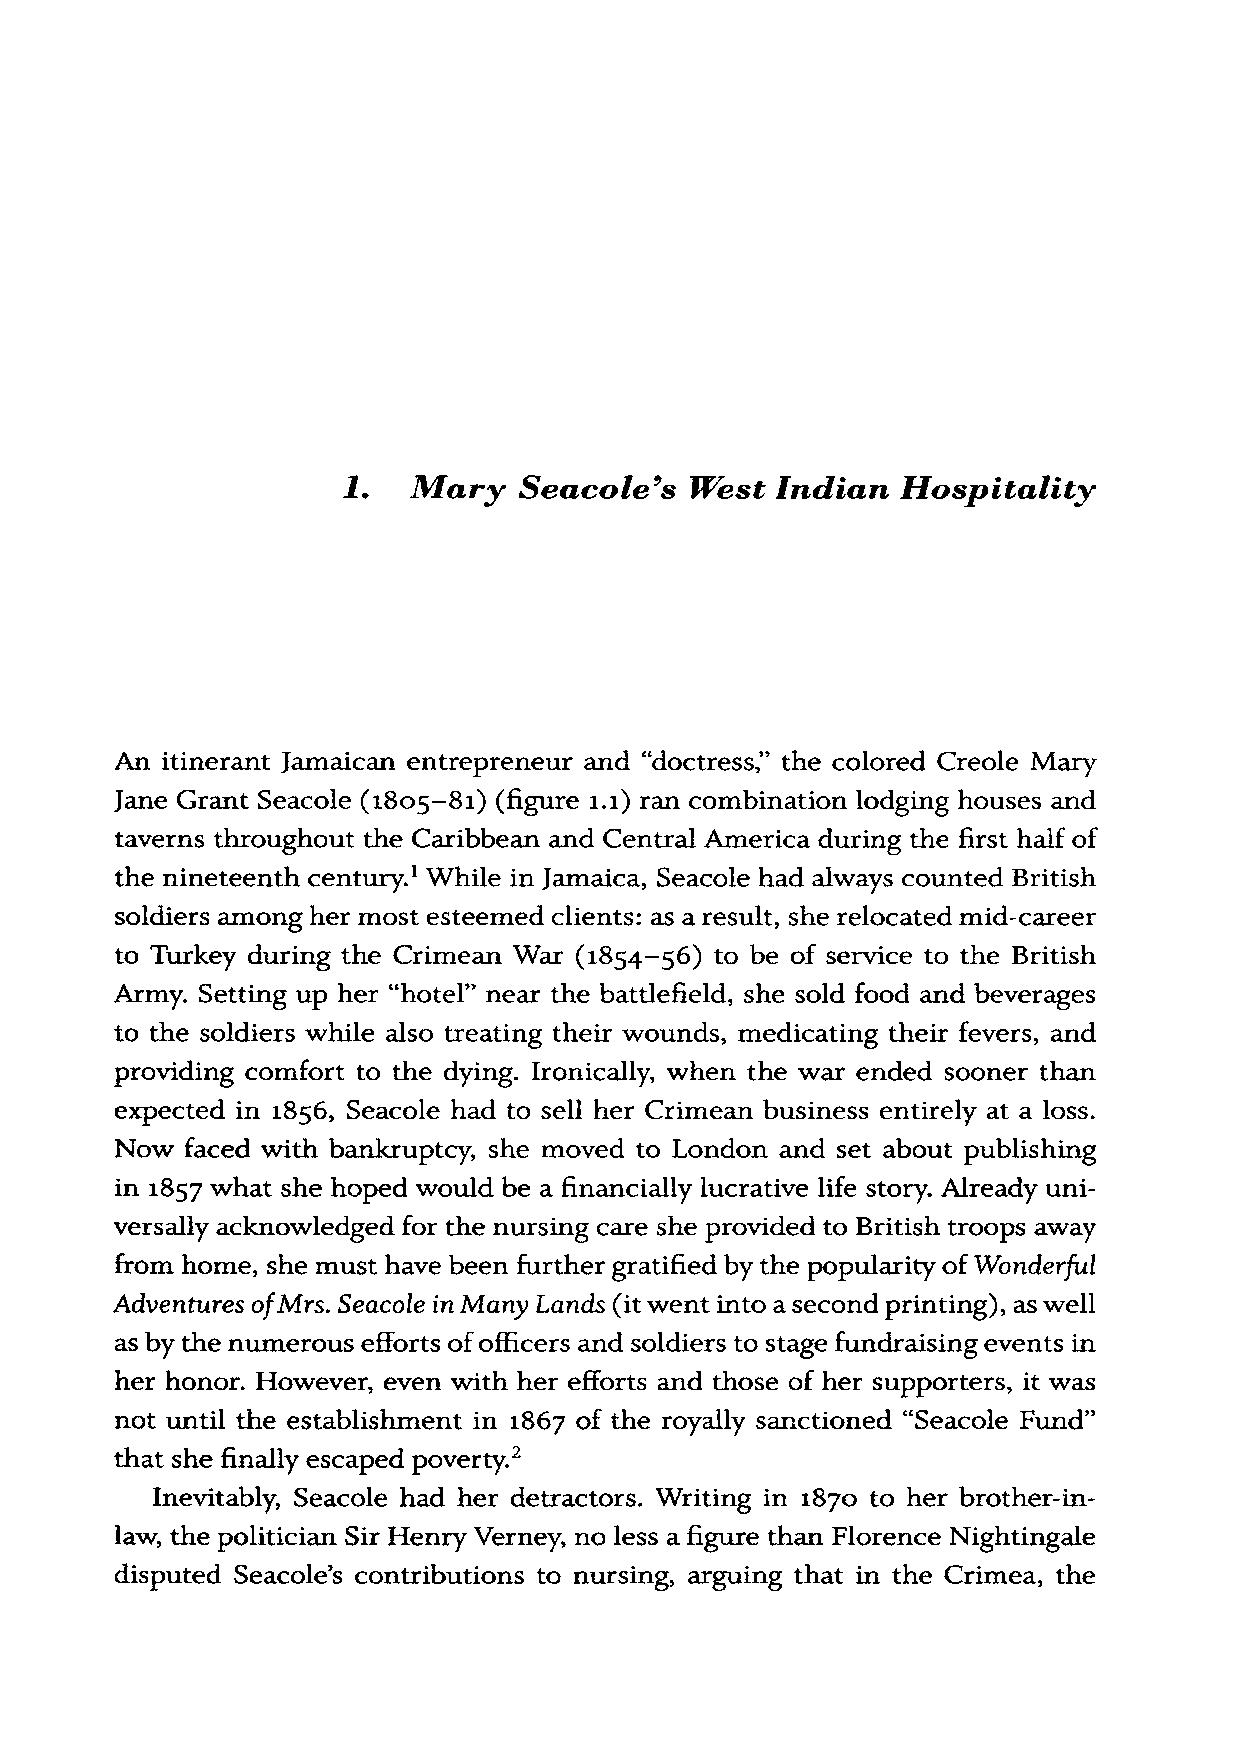chapter: (340, 466, 1096, 511)
content: (111, 745, 1096, 1592)
